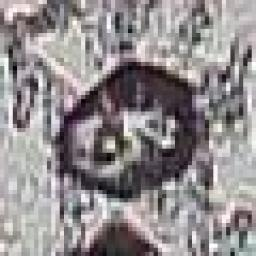crystals: (54, 58, 194, 204)
